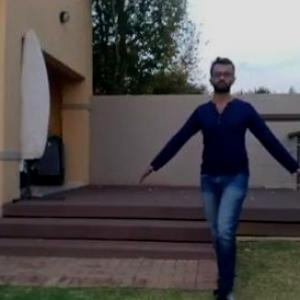land: (147, 66, 296, 291)
